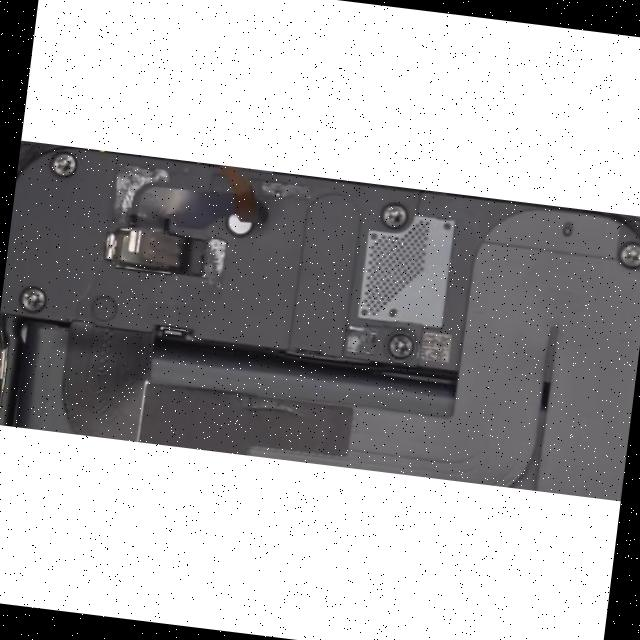Torx: (48, 149, 79, 179), (17, 284, 48, 314), (388, 333, 412, 358), (382, 204, 406, 227), (619, 243, 640, 266)
